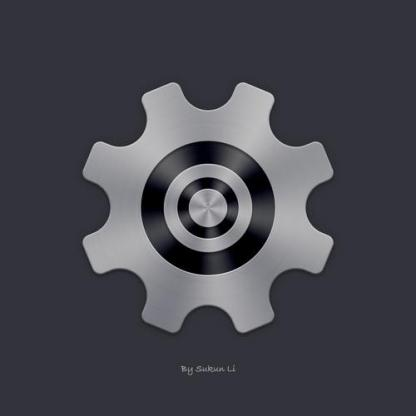FOD: (74, 76, 340, 338)
